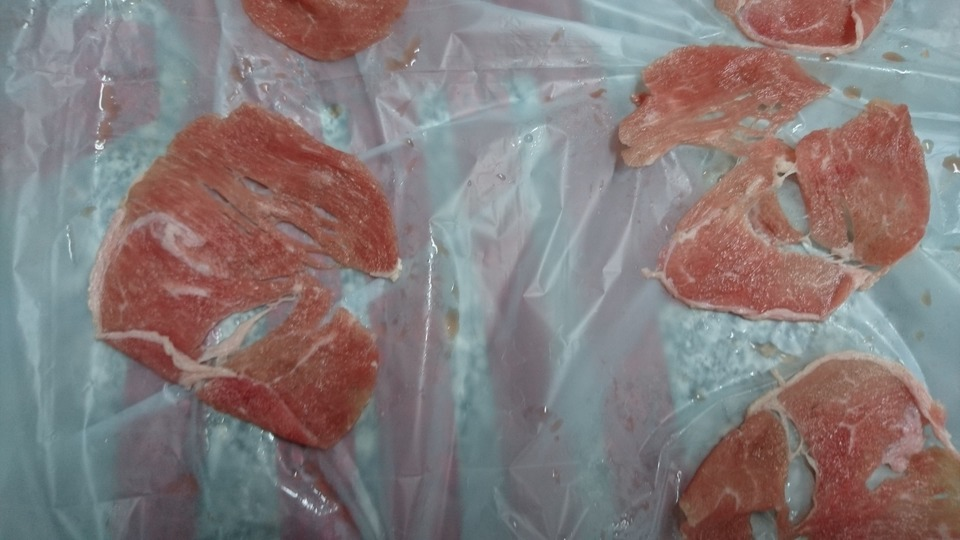restructured meat: (87, 105, 382, 443), (614, 60, 935, 323), (669, 364, 960, 538), (241, 2, 416, 64), (704, 5, 896, 50)
